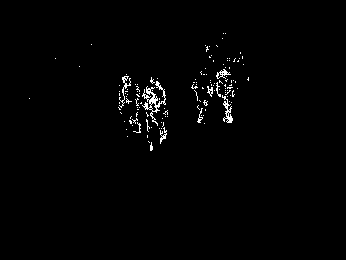person: (142, 76, 169, 152), (117, 75, 143, 137), (191, 64, 213, 124), (215, 67, 237, 124)
